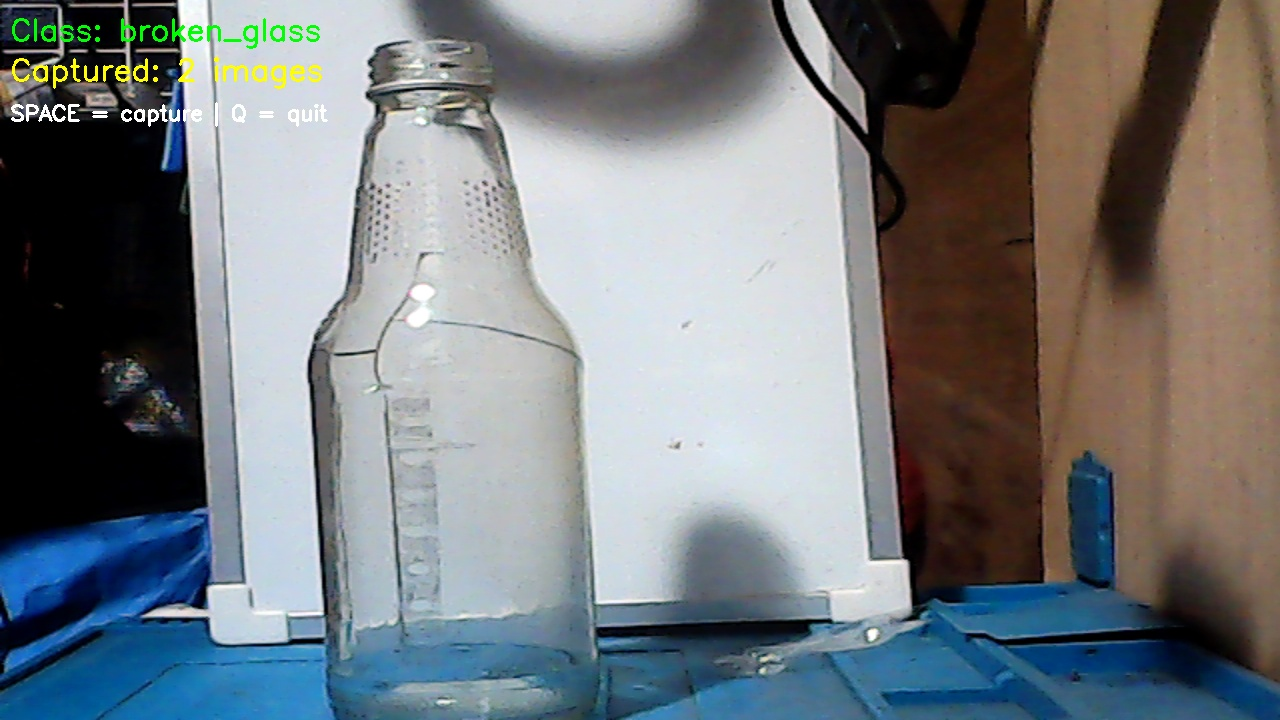broken_glass: (308, 37, 601, 720)
